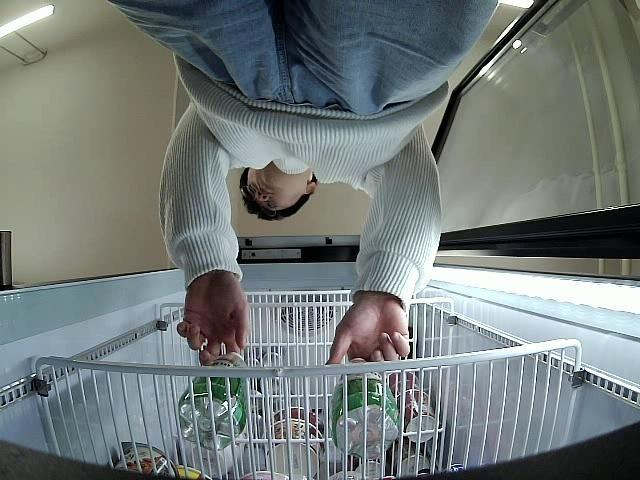18_trevi: (178, 352, 246, 450), (332, 358, 398, 456)
